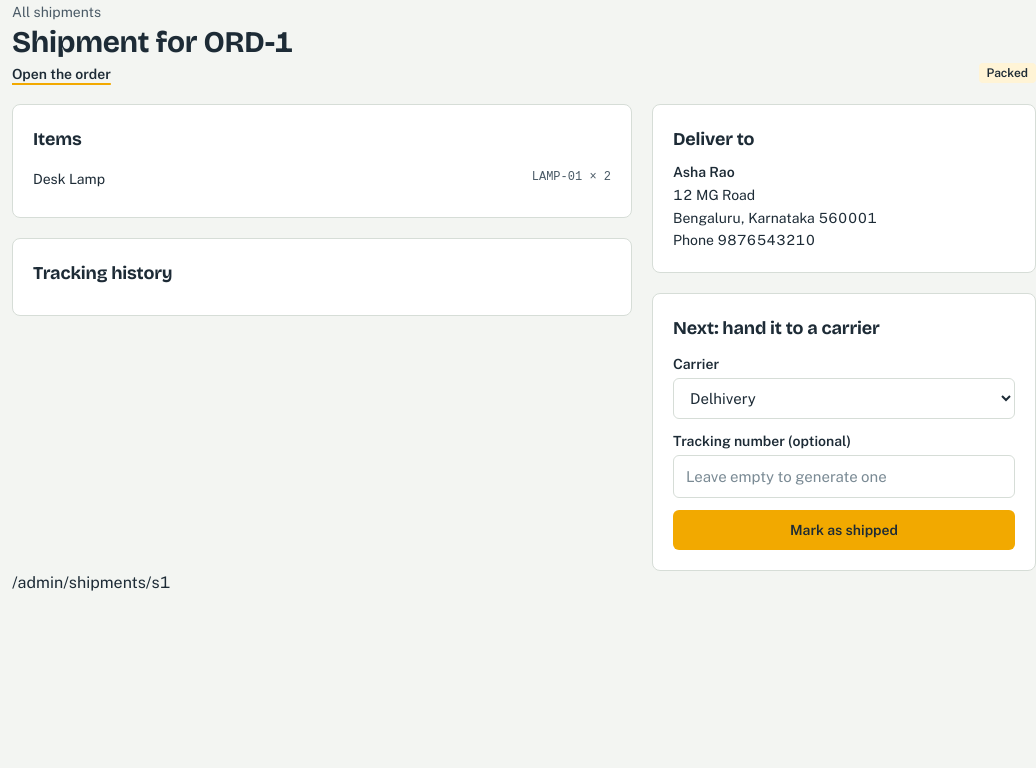
it: a shipment › is handed to the chosen carrier once packed
This screenshot has width=1036, height=768.
Select "Blue Dart" in the dropdown labelled "Carrier" at (844, 398), box [673, 378, 1015, 419]
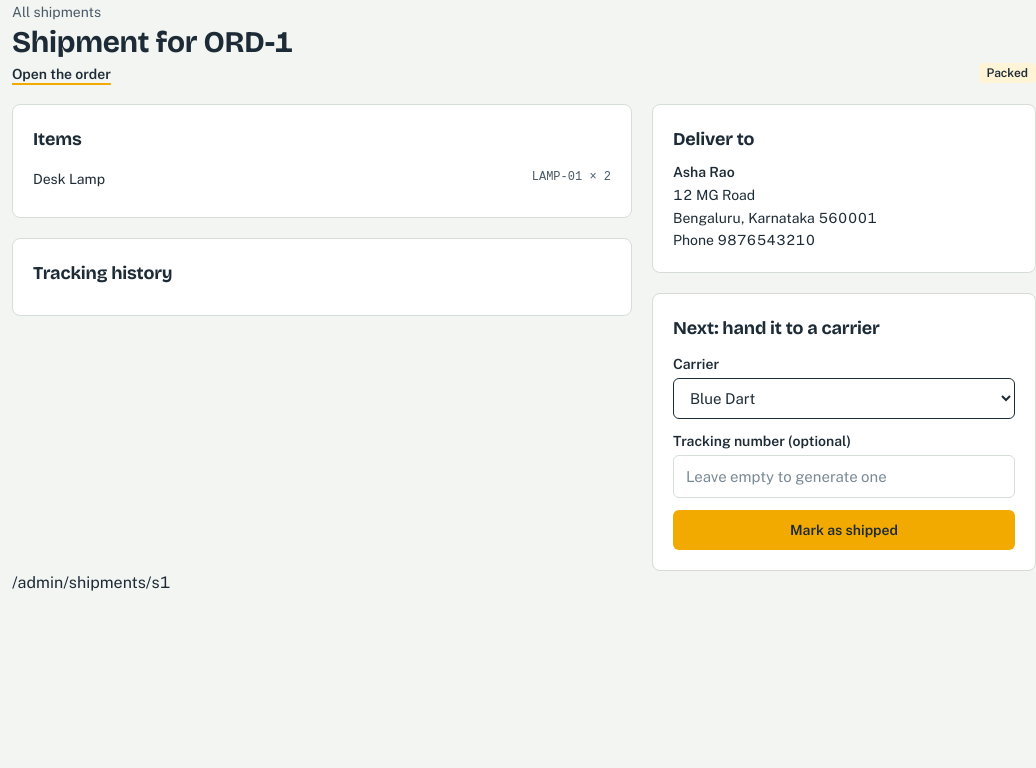
Click the button "Mark as shipped" at (844, 530), box [673, 510, 1015, 550]
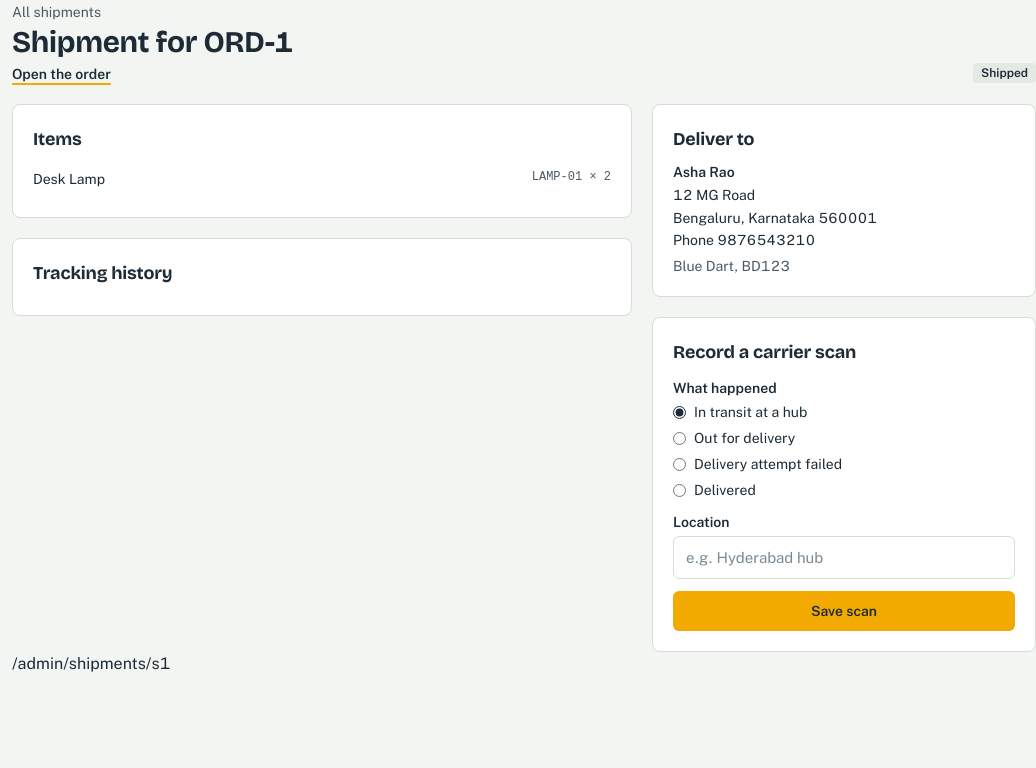
Now the element with test id "shipment-status" reads "Shipped", box [981, 66, 1028, 80]
